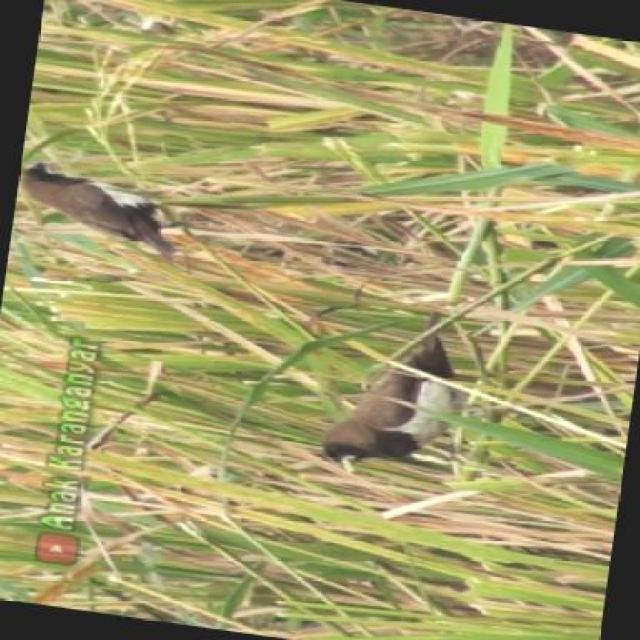Bird: (315, 309, 496, 473), (15, 149, 204, 262)
